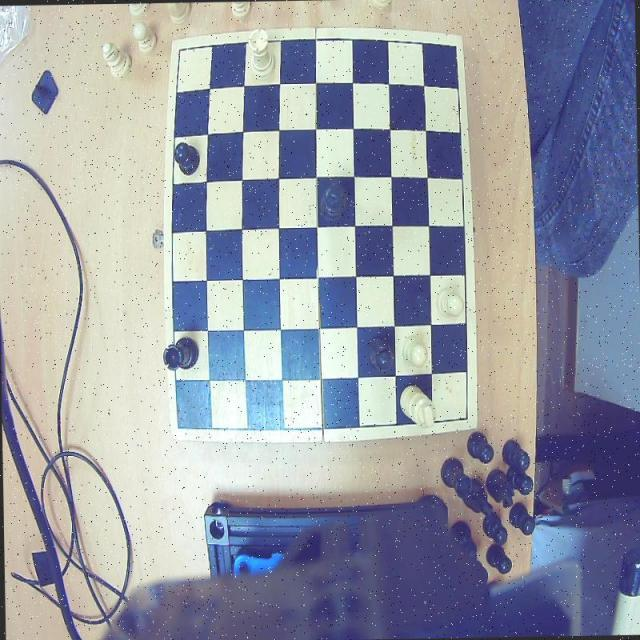chess-table-corners: (172, 412, 194, 437), (454, 407, 474, 430), (174, 38, 193, 60), (448, 35, 462, 63)
